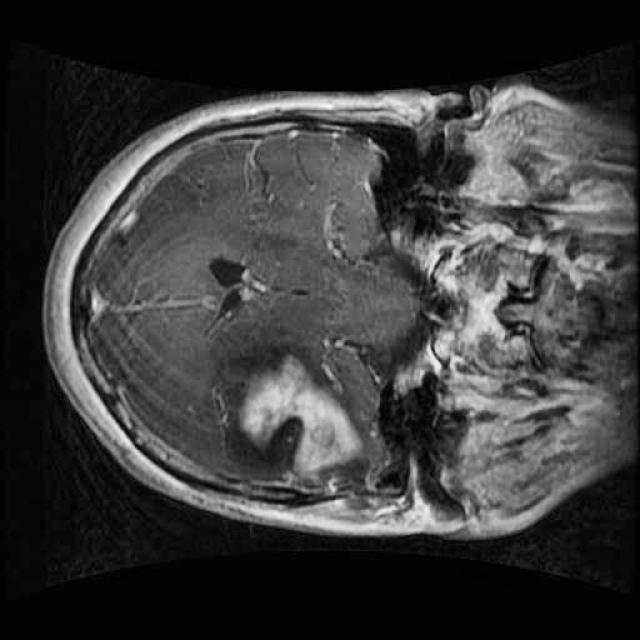Non-Tumor: (206, 318, 385, 505)
